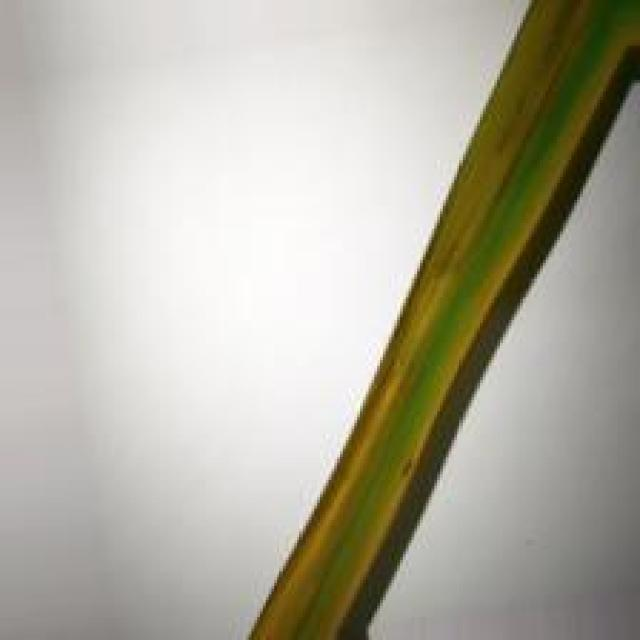Narrow_Brown_Leaf_Spot: (257, 0, 595, 638), (323, 33, 633, 636)
